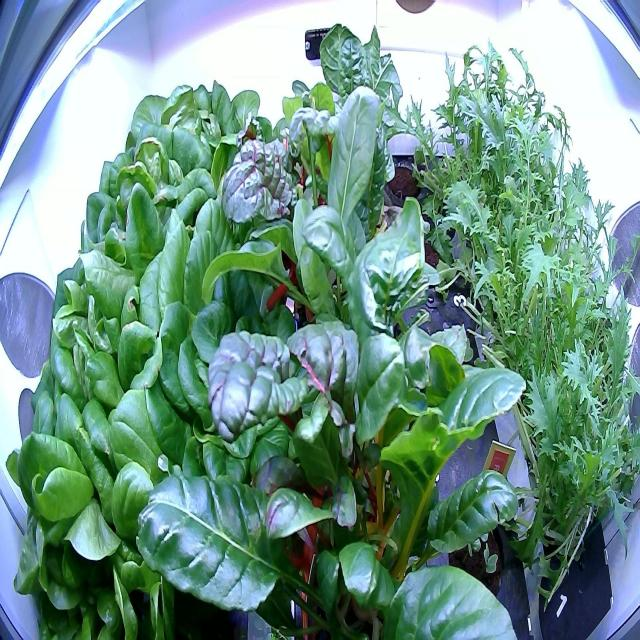Ready: (54, 133, 230, 365), (4, 377, 161, 634), (23, 220, 196, 440), (116, 63, 263, 240)
pod: (377, 145, 425, 211)
